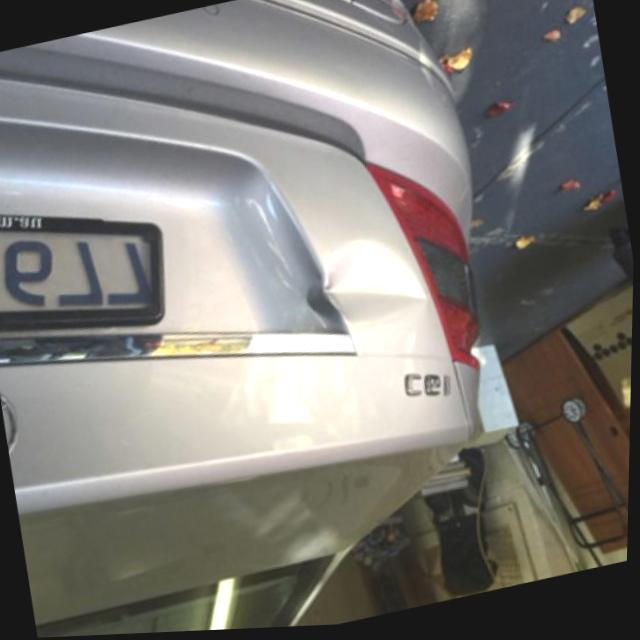Dent: (323, 235, 427, 325)
